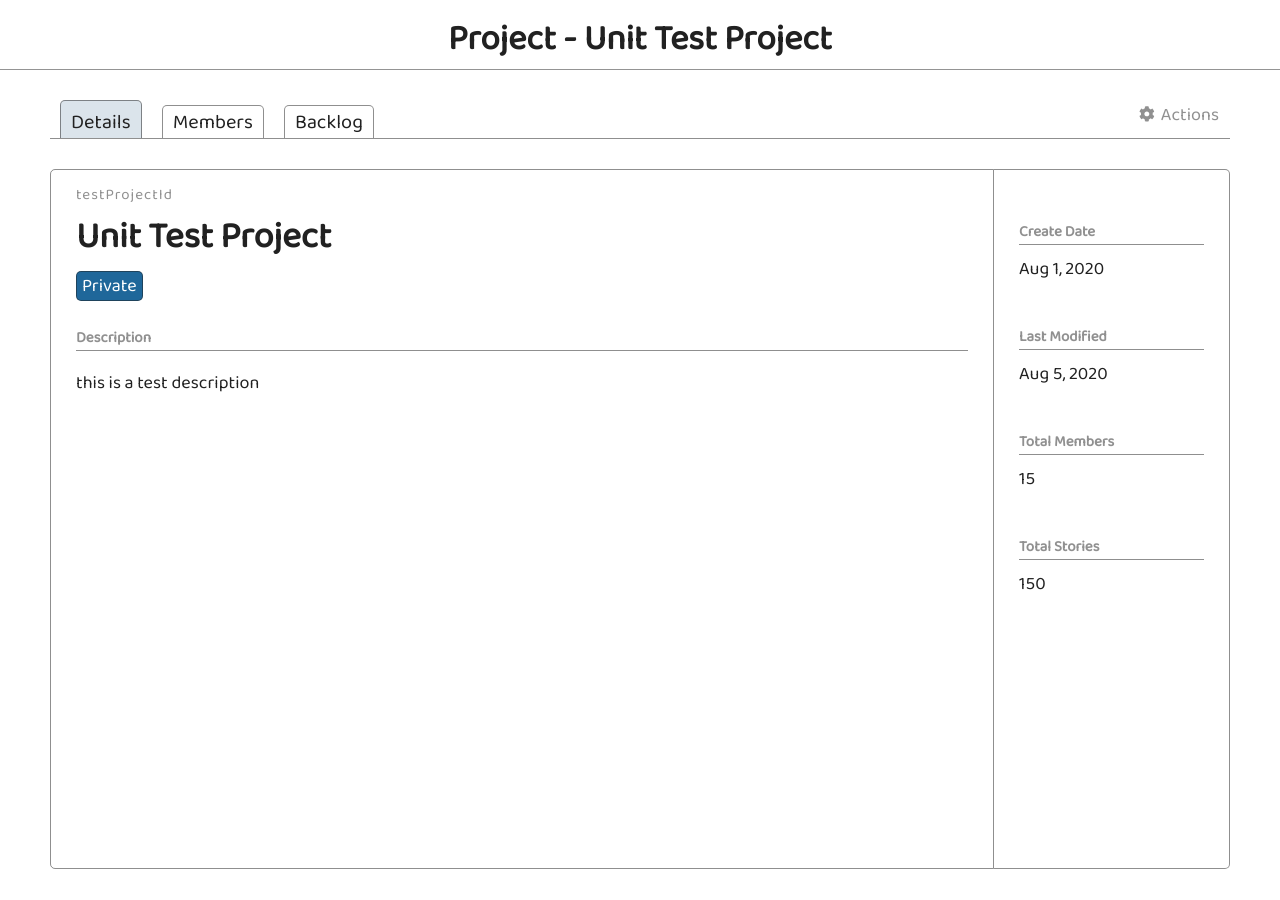
Test case: <ProjectDetails /> › should render the `Manage Configs` action if the user has viewer permissions
Click the element with test id "projectDetailsActionsMenu" at {"x": 1178, "y": 115}, box [1138,101,1219,129]
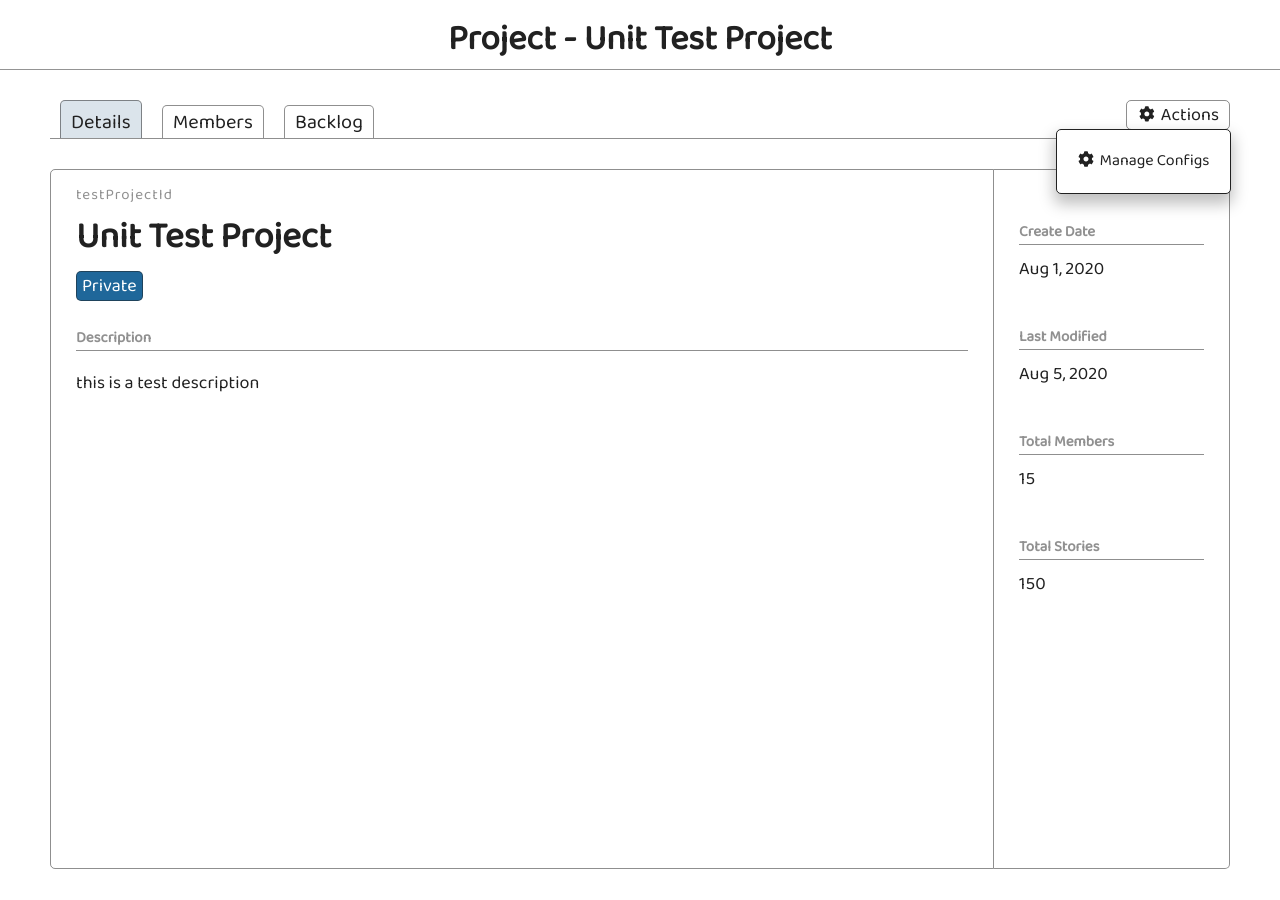
Expected: the list item "Manage Configs" is shown, [1062,142,1226,179]
